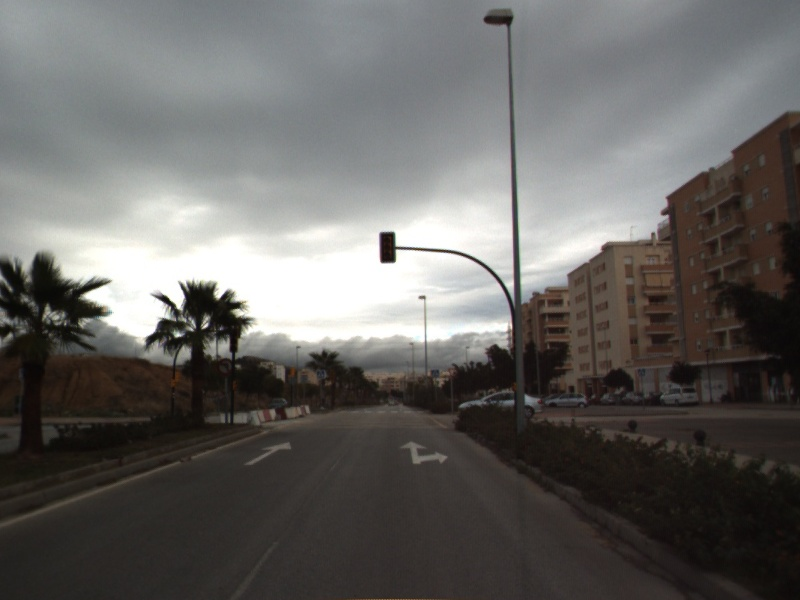STRAIGHT: (242, 440, 293, 467)
STRAIGHT_RIGHT: (398, 439, 450, 466)
